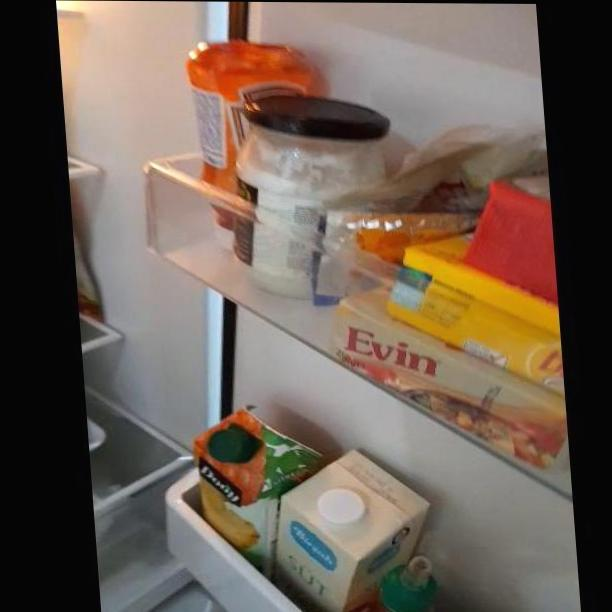butter: (358, 255, 574, 442)
juice: (200, 413, 276, 543)
milk: (273, 460, 401, 610)
sauce: (186, 43, 264, 216)
